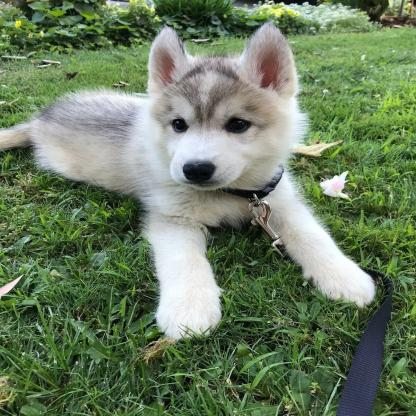husky: (0, 26, 378, 345)
